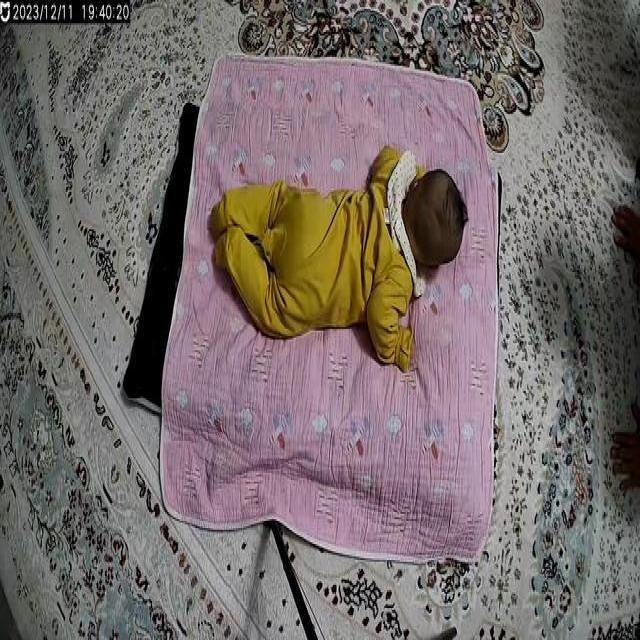baby: (208, 132, 474, 385)
